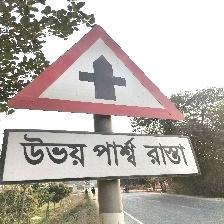Crossroad: (0, 15, 203, 186)
